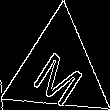M_NE: (27, 36, 88, 104)
